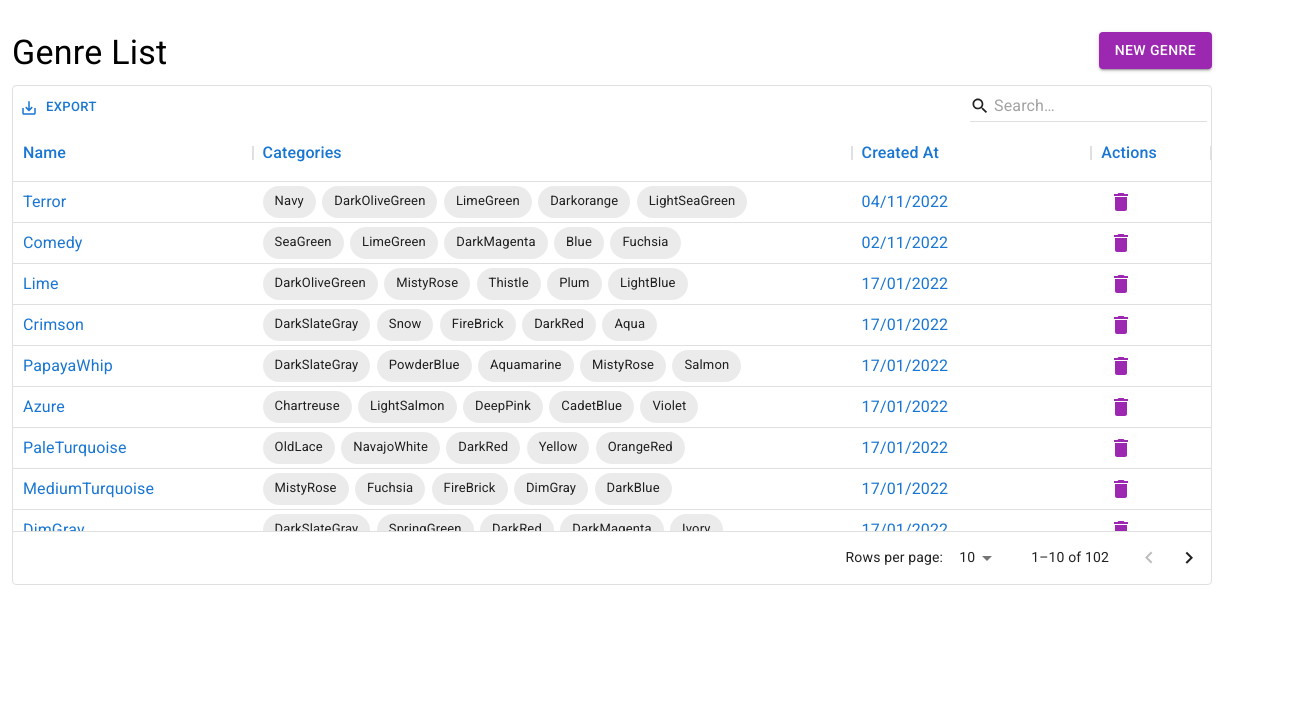
Test: GenreList › should handle delete category success
expect the text "Terror" is shown: met, box [23, 190, 66, 214]
Click the button with test id "delete-button" in the row of "Terror" at (1121,202), box [1101, 182, 1141, 222]
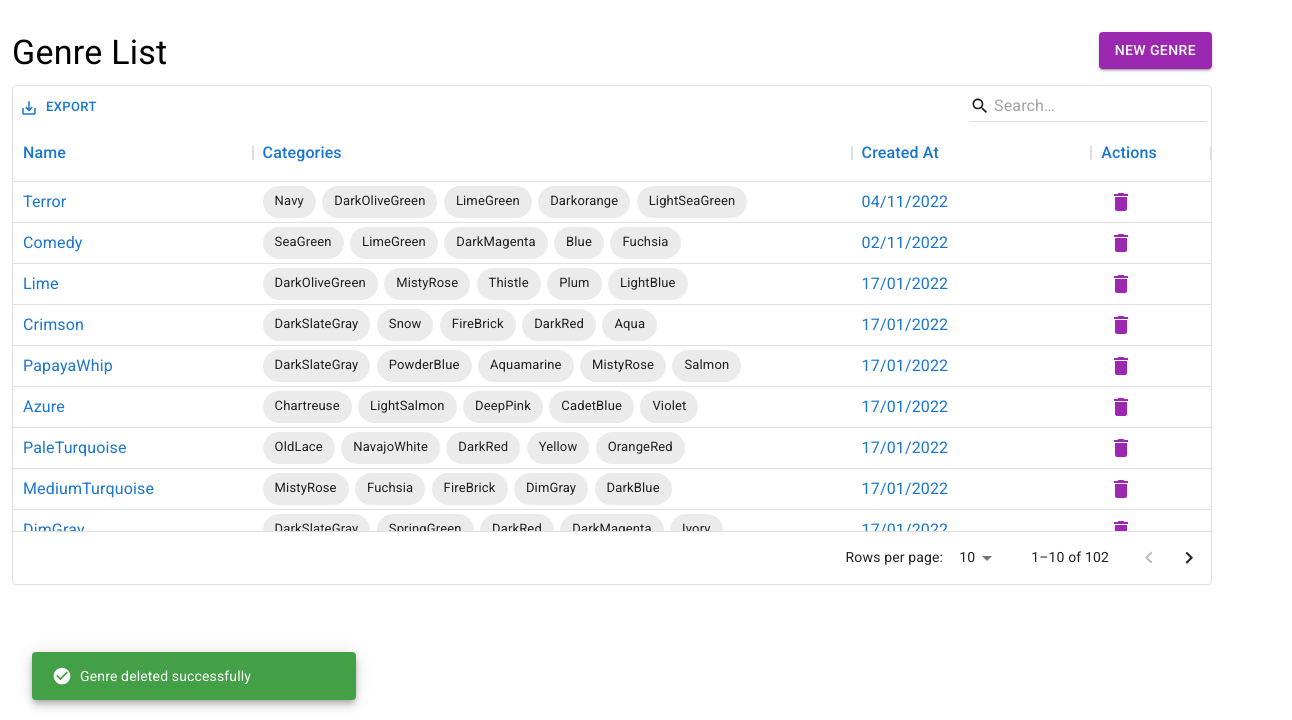
expect the text "Genre deleted successfully" is shown: met, box [52, 666, 251, 686]
